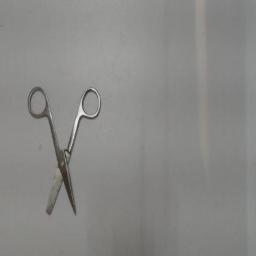Dressing Scissors: (23, 80, 107, 224)
